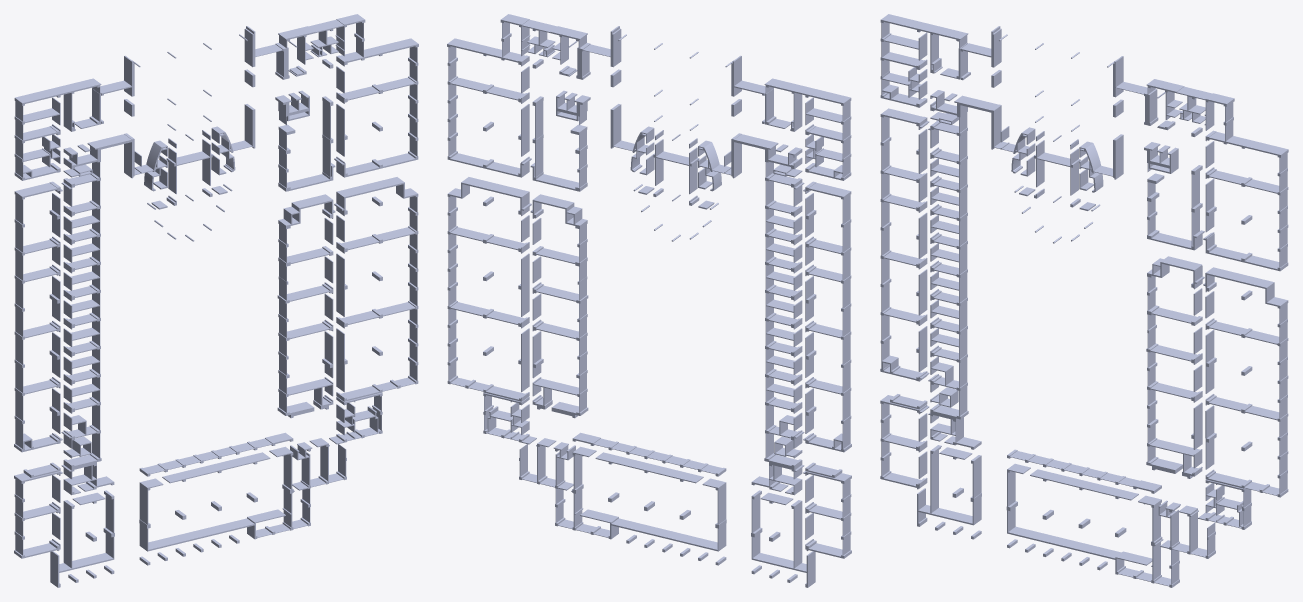
The model's file is 1walls.FBX.
3 views of the same model, side by side, from view 1: azimuth 30°, elevation 25°; view 2: azimuth 150°, elevation 25°; view 3: azimuth 330°, elevation 25° (orthographic).
Visible parts, largest first — view 1: 凸台-拉伸2[8], 凸台-拉伸2[39], 凸台-拉伸2[15], 凸台-拉伸2[43], 凸台-拉伸2[40], 凸台-拉伸2[6], 凸台-拉伸2[1], 凸台-拉伸2[55], 凸台-拉伸2[7], 凸台-拉伸2[2], 凸台-拉伸2[17], 凸台-拉伸2[28] (+8 smaller); view 2: 凸台-拉伸2[8], 凸台-拉伸2[39], 凸台-拉伸2[15], 凸台-拉伸2[43], 凸台-拉伸2[40], 凸台-拉伸2[6], 凸台-拉伸2[1], 凸台-拉伸2[55], 凸台-拉伸2[7], 凸台-拉伸2[2], 凸台-拉伸2[17], 凸台-拉伸2[28] (+8 smaller); view 3: 凸台-拉伸2[8], 凸台-拉伸2[39], 凸台-拉伸2[15], 凸台-拉伸2[43], 凸台-拉伸2[40], 凸台-拉伸2[6], 凸台-拉伸2[1], 凸台-拉伸2[55], 凸台-拉伸2[7], 凸台-拉伸2[2], 凸台-拉伸2[17], 凸台-拉伸2[28] (+8 smaller).
Part boxes in pixels (<box>): 凸台-拉伸2[8]: <box>61,133,167,495</box>; 凸台-拉伸2[39]: <box>244,14,418,177</box>; 凸台-拉伸2[15]: <box>139,438,346,551</box>; 凸台-拉伸2[43]: <box>277,194,335,418</box>; 凸台-拉伸2[40]: <box>334,177,418,401</box>; 凸台-拉伸2[6]: <box>14,181,62,452</box>; 凸台-拉伸2[1]: <box>14,78,101,180</box>; 凸台-拉伸2[55]: <box>278,96,335,191</box>; 凸台-拉伸2[7]: <box>14,471,62,558</box>; 凸台-拉伸2[2]: <box>329,392,382,444</box>; 凸台-拉伸2[17]: <box>50,490,114,587</box>; 凸台-拉伸2[28]: <box>139,432,293,476</box>; 凸台-拉伸2[8]: <box>698,133,804,495</box>; 凸台-拉伸2[39]: <box>447,14,621,177</box>; 凸台-拉伸2[15]: <box>519,438,726,551</box>; 凸台-拉伸2[43]: <box>530,194,588,418</box>; 凸台-拉伸2[40]: <box>447,177,531,401</box>; 凸台-拉伸2[6]: <box>803,181,851,452</box>; 凸台-拉伸2[1]: <box>764,78,851,180</box>; 凸台-拉伸2[55]: <box>530,96,587,191</box>; 凸台-拉伸2[7]: <box>803,471,851,558</box>; 凸台-拉伸2[2]: <box>483,392,536,444</box>; 凸台-拉伸2[17]: <box>751,490,815,587</box>; 凸台-拉伸2[28]: <box>572,432,726,476</box>; 凸台-拉伸2[8]: <box>928,90,1035,449</box>; 凸台-拉伸2[39]: <box>1113,56,1288,271</box>; 凸台-拉伸2[15]: <box>1006,463,1215,587</box>; 凸台-拉伸2[43]: <box>1146,256,1204,478</box>; 凸台-拉伸2[40]: <box>1203,267,1288,497</box>; 凸台-拉伸2[6]: <box>880,108,929,381</box>; 凸台-拉伸2[1]: <box>880,14,968,107</box>; 凸台-拉伸2[55]: <box>1147,165,1204,250</box>; 凸台-拉伸2[7]: <box>880,395,929,489</box>; 凸台-拉伸2[2]: <box>1198,479,1251,529</box>; 凸台-拉伸2[17]: <box>917,455,981,526</box>; 凸台-拉伸2[28]: <box>1007,449,1161,493</box>.
Size of the model in its own units: 3498 by 4279 by 118.
